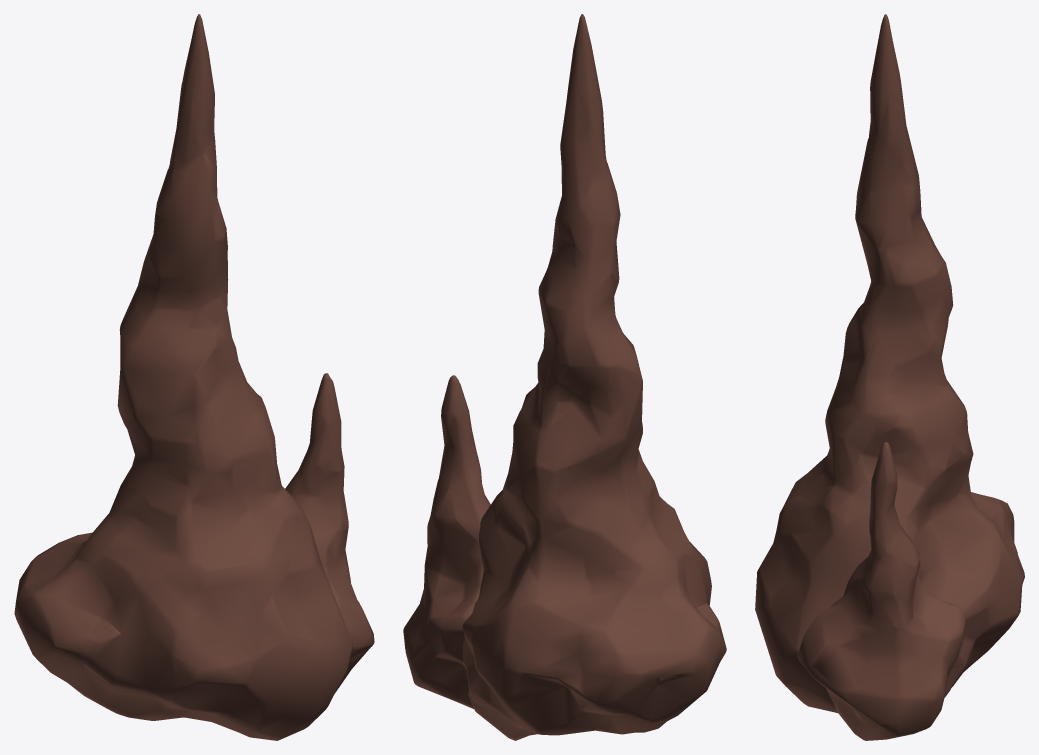
The model's file is hvs_fillers_stalagmitestonemedium01.fbx.
3 renders of one model, left to right at view 1: azimuth 30°, elevation 25°; view 2: azimuth 150°, elevation 25°; view 3: azimuth 270°, elevation 25°, orthographic. The views are drawn at different scales.
Parts seen in each view (by area): view 1: Cone.010, Cone.012; view 2: Cone.010, Cone.012; view 3: Cone.010, Cone.012.
Boxes of the visible parts, x1,y1,x2,y2 form: Cone.010: (14, 14, 352, 740); Cone.012: (285, 373, 374, 692); Cone.010: (462, 14, 726, 740); Cone.012: (403, 375, 490, 708); Cone.010: (755, 14, 1024, 712); Cone.012: (797, 442, 966, 740).
Bounding box in the file's own units: 9.8 × 21.15 × 7.59.
